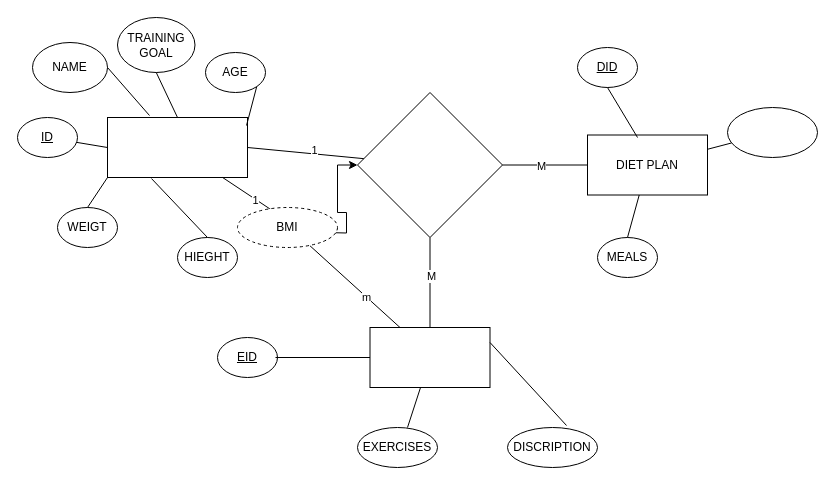
Image size: 835x485. Some labels were removed from this diagram. The shapes that lost their labels are listed below. From the top down, each one's box as (x1, y1, x2, y2) in pixels, then its label:
(106, 116, 248, 178): USER
(726, 106, 818, 158): DESCRIPTION
(356, 92, 502, 238): REQUEST DIET PLAN &EXERCISE PLAN
(369, 326, 490, 388): EXERCISE PLAN
